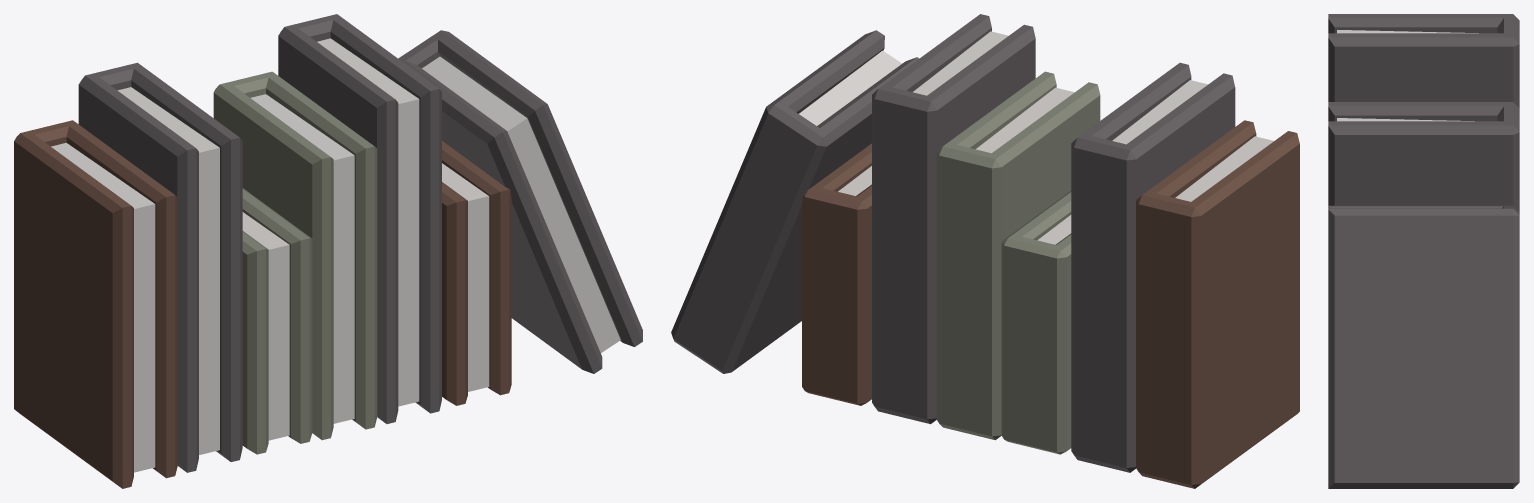
Rendered from books.glb.
3 views of the same model, side by side, from view 1: azimuth 30°, elevation 25°; view 2: azimuth 150°, elevation 25°; view 3: azimuth 270°, elevation 25° (orthographic). The views are drawn at different scales.
Visible parts, largest first — view 1: Books A; view 2: Books A; view 3: Books A.
Part boxes in pixels (<box>): Books A: <box>14,14,642,488</box>; Books A: <box>671,14,1299,488</box>; Books A: <box>1328,14,1519,488</box>.
Size of the model in its own units: 0.5096 by 0.2967 by 0.1763.
